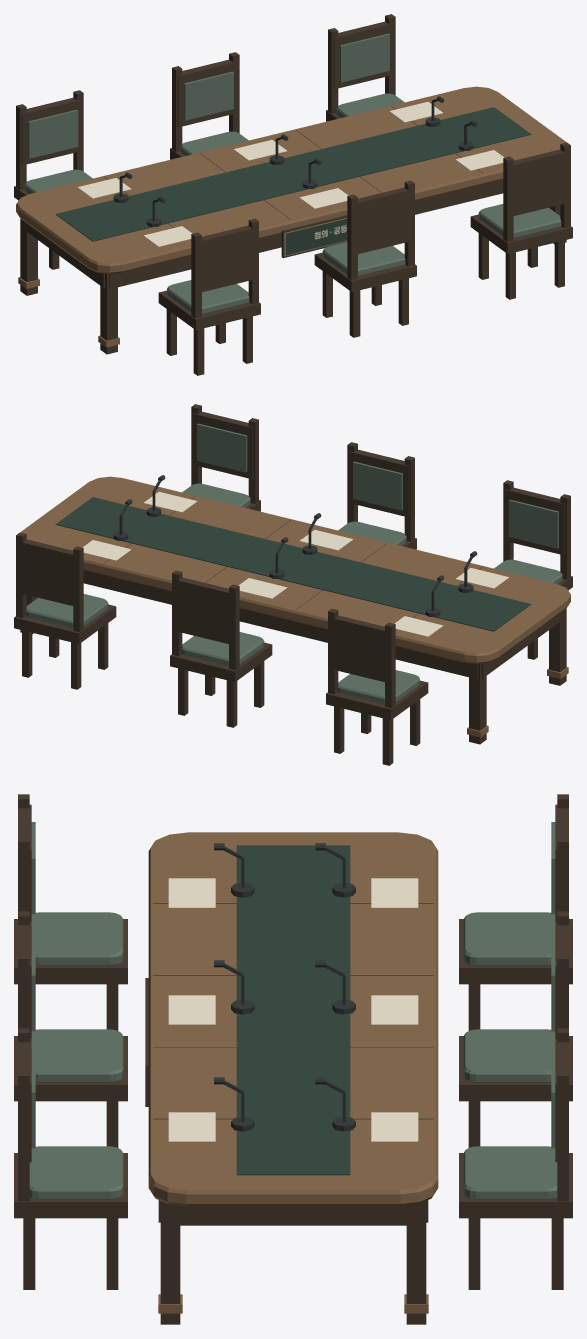
The model's file is 02_Conference_Table_Set.fbx.
3 renders of one model, top to bottom at view 1: azimuth 30°, elevation 25°; view 2: azimuth 150°, elevation 25°; view 3: azimuth 270°, elevation 25°, orthographic. The views are drawn at different scales.
Visible parts, largest first — view 1: 02_Conference_Table_Set__Structure, 02_Conference_Table_Set; view 2: 02_Conference_Table_Set__Structure, 02_Conference_Table_Set; view 3: 02_Conference_Table_Set__Structure, 02_Conference_Table_Set.
Part boxes in pixels (x1=…): 02_Conference_Table_Set__Structure: x1=16, y1=86, x2=566, y2=354; 02_Conference_Table_Set: x1=14, y1=14, x2=572, y2=375; 02_Conference_Table_Set__Structure: x1=20, y1=475, x2=570, y2=744; 02_Conference_Table_Set: x1=14, y1=404, x2=572, y2=765; 02_Conference_Table_Set__Structure: x1=145, y1=832, x2=438, y2=1324; 02_Conference_Table_Set: x1=14, y1=794, x2=572, y2=1289.
Size of the model in its own units: 470 by 133 by 309.
Materials: 1 (1 with a texture image).
